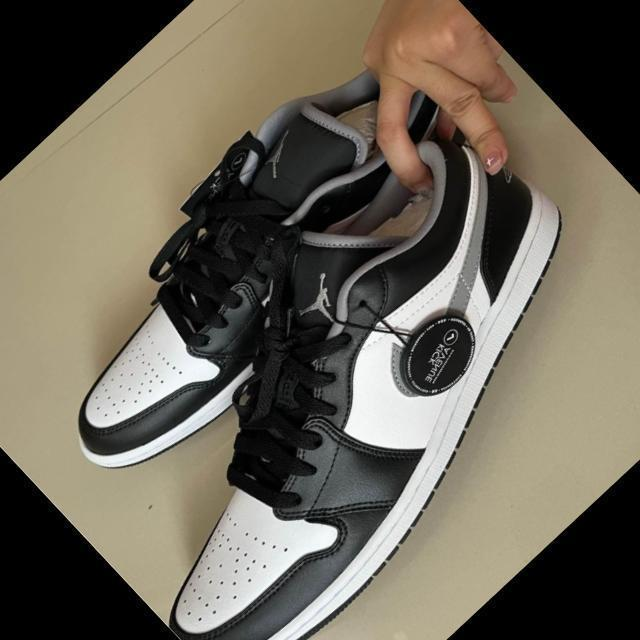nike original jordan 1: (40, 90, 640, 640), (0, 11, 503, 504)
